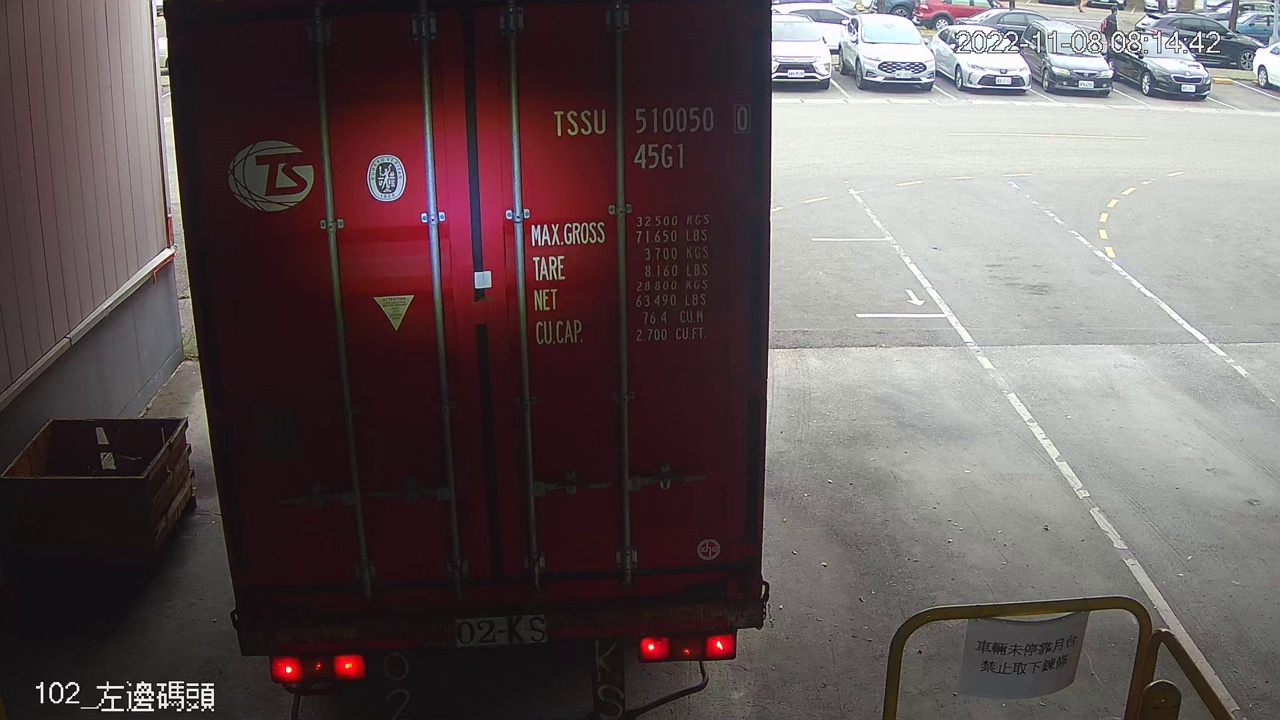container: (542, 94, 757, 176)
